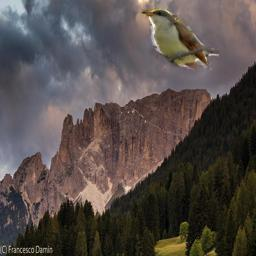Cuckoo: (138, 3, 219, 70)
